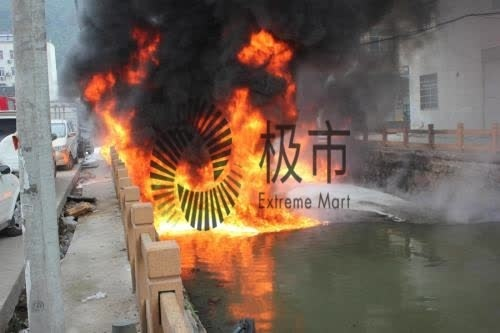fire: (92, 23, 337, 235)
